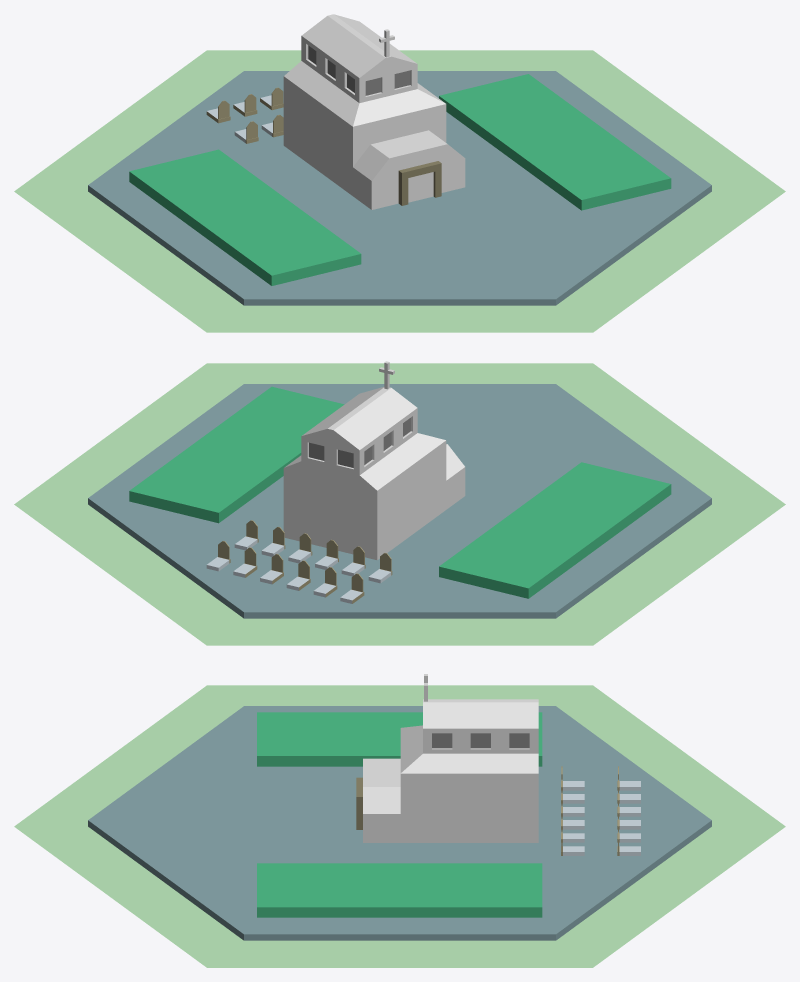
File: Temp_Church.fbx
3 views of the same model, one above another, from view 1: azimuth 30°, elevation 25°; view 2: azimuth 150°, elevation 25°; view 3: azimuth 270°, elevation 25° (orthographic).
Visible parts, largest first — view 1: 立方体.007; view 2: 立方体.007; view 3: 立方体.007.
Boxes of the visible parts, x1,y1,x2,y2 form: 立方体.007: (14, 14, 785, 332); 立方体.007: (14, 361, 785, 645); 立方体.007: (14, 674, 785, 967).
Bounding box in the file's own units: 165 × 41.81 × 190.
